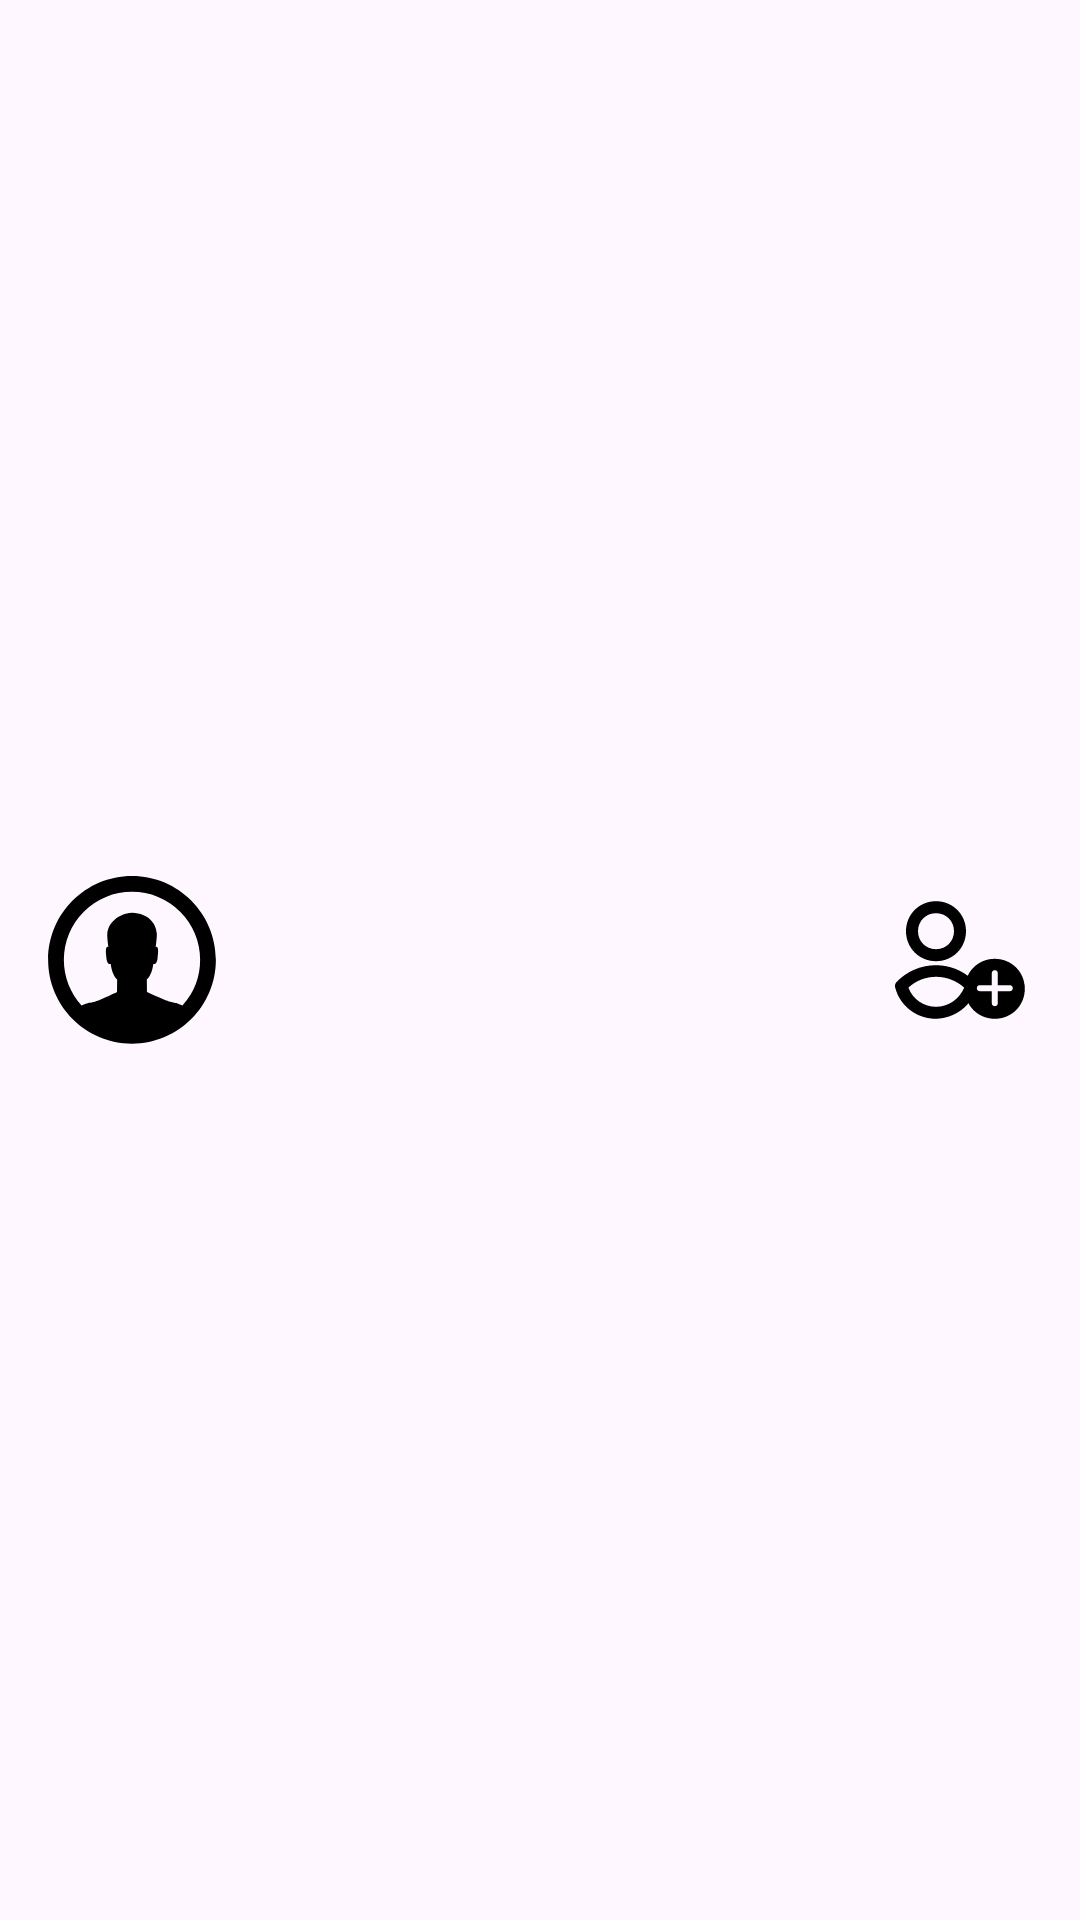

Where icons sit on this 1080px×1920px app screen, as (x1, y1, x2, y2):
add friend: (895, 901, 1025, 1019)
friend: (48, 876, 216, 1044)
